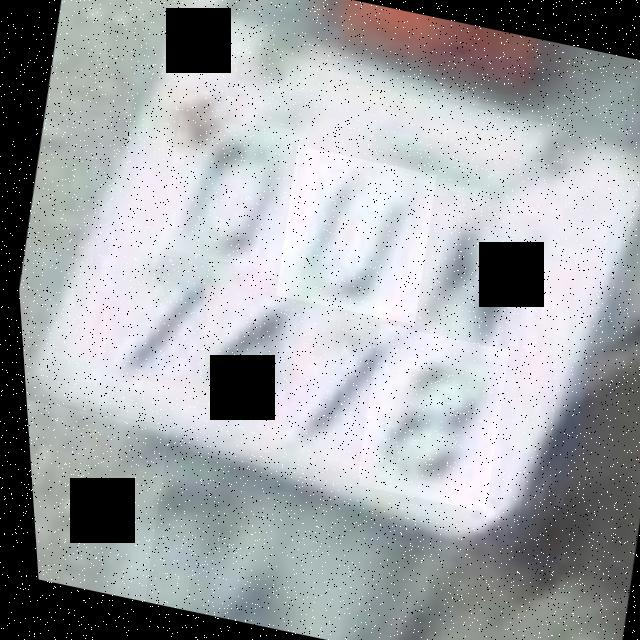3: (21, 394, 171, 601)
4: (163, 262, 313, 430)
7: (89, 246, 217, 390)
8: (343, 324, 512, 512), (252, 290, 415, 482)
H: (378, 190, 546, 373)
O: (148, 112, 308, 275)
U: (264, 146, 442, 324)
